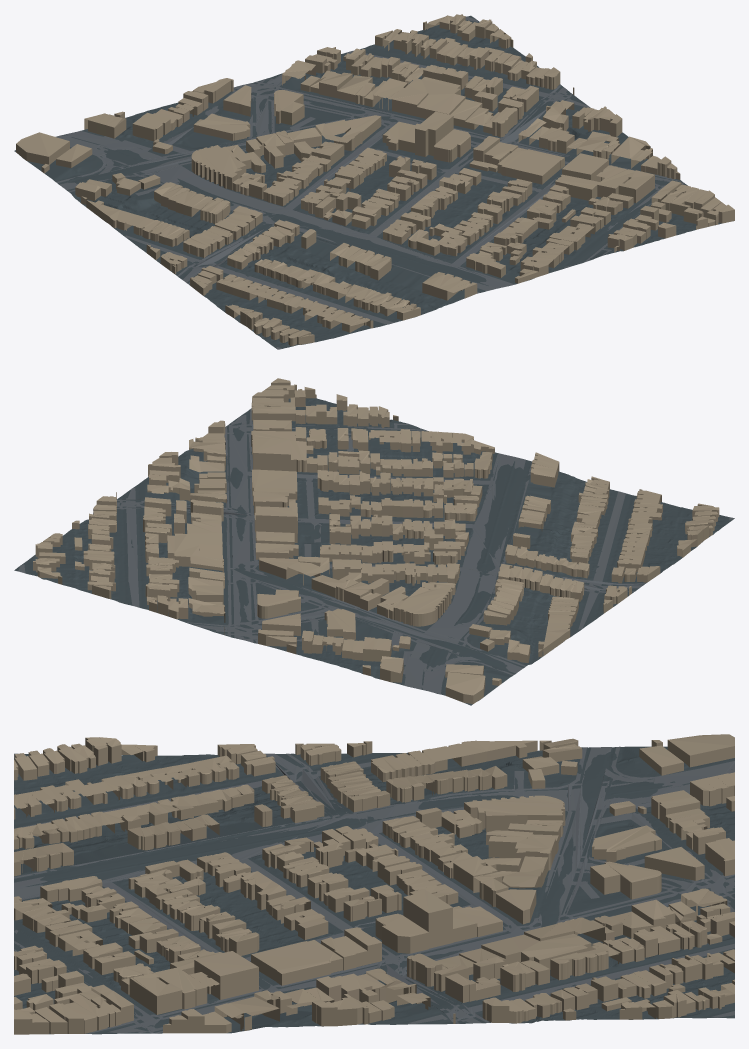
File: epsg26910-1431-10873.lod0.glb
3 renders of one model, top to bottom at view 1: azimuth 30°, elevation 25°; view 2: azimuth 150°, elevation 25°; view 3: azimuth 270°, elevation 25°, orthographic. The views are drawn at different scales.
Visible parts, largest first — view 1: epsg26910-1431-10873-lod0; view 2: epsg26910-1431-10873-lod0; view 3: epsg26910-1431-10873-lod0.
Part boxes in pixels (left/top/right/bottom): epsg26910-1431-10873-lod0: left=14, top=14, right=734, bottom=349; epsg26910-1431-10873-lod0: left=14, top=378, right=734, bottom=705; epsg26910-1431-10873-lod0: left=14, top=734, right=734, bottom=1034.
Size of the model in its own units: 384 by 36.62 by 384.
